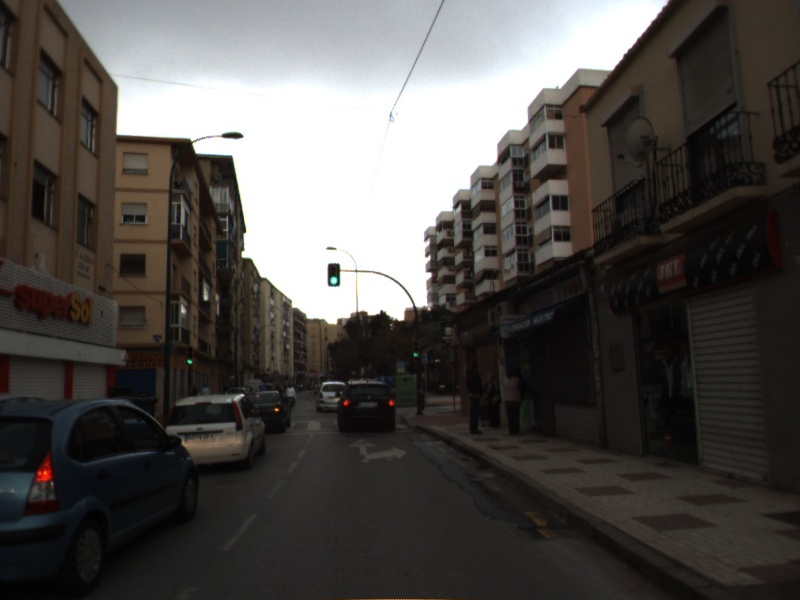STRAIGHT_RIGHT: (346, 437, 410, 464)
